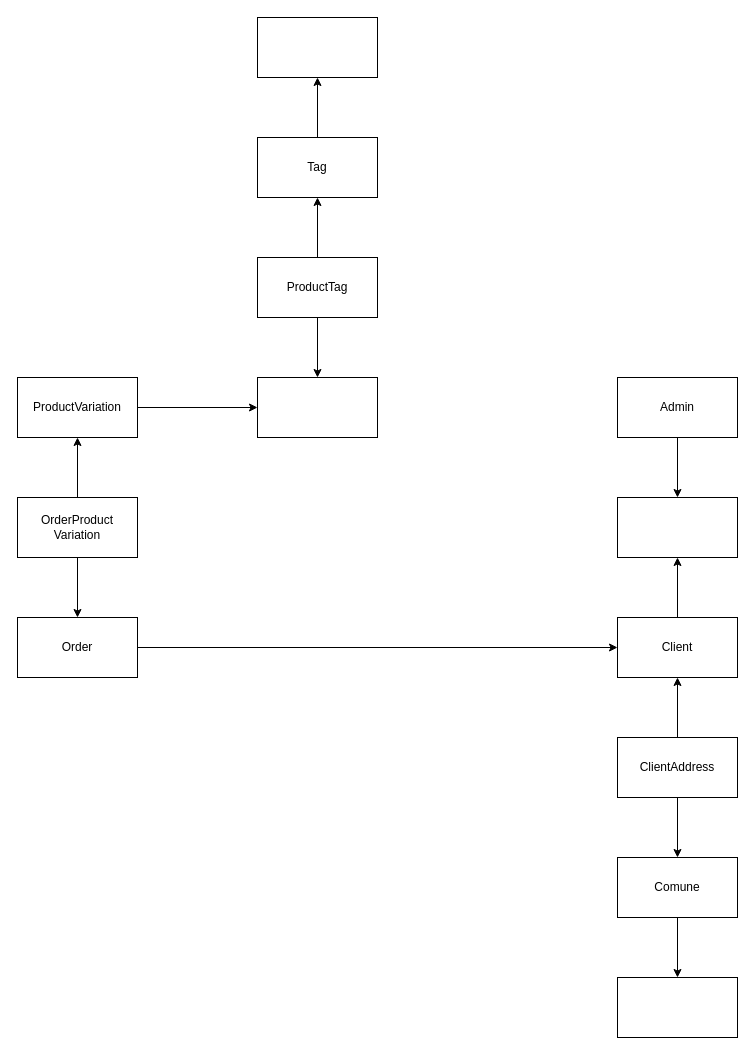
The diagram is 755 pixels wide and 1055 high, and some of its shapes have lost their labels. The shapes that lost their labels are listed below. From the top down, each one's box as (x1, y1, x2, y2) in pixels, then its label:
(256, 16, 378, 78): TagGroup
(256, 376, 378, 438): Product
(616, 496, 738, 558): User
(616, 976, 738, 1038): Region
